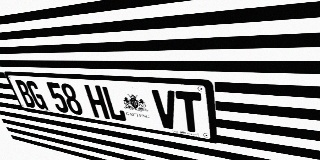5: (46, 82, 70, 113)
8: (59, 83, 84, 116)
B: (14, 80, 37, 108)
G: (25, 81, 49, 110)
H: (84, 85, 110, 120)
L: (101, 86, 127, 122)
T: (175, 91, 204, 134)
V: (151, 89, 179, 130)
